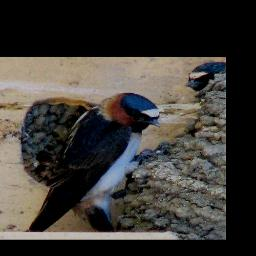Swallow: (19, 91, 161, 230)
